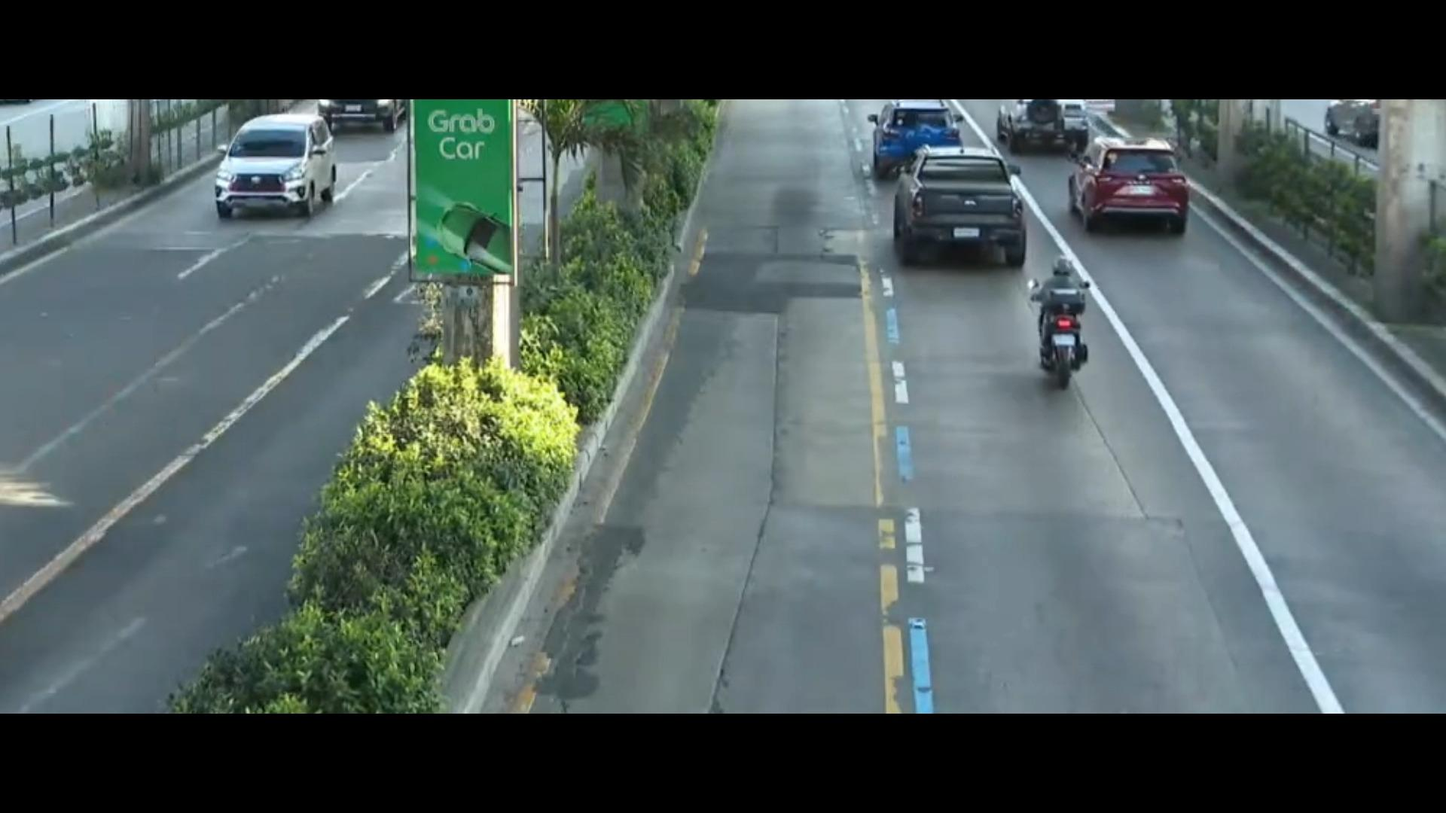Motorcycle: (1030, 251, 1105, 402)
Pickup: (879, 151, 1025, 277)
SUV: (207, 98, 366, 218), (1069, 125, 1219, 232), (841, 102, 972, 175), (994, 98, 1105, 149)
